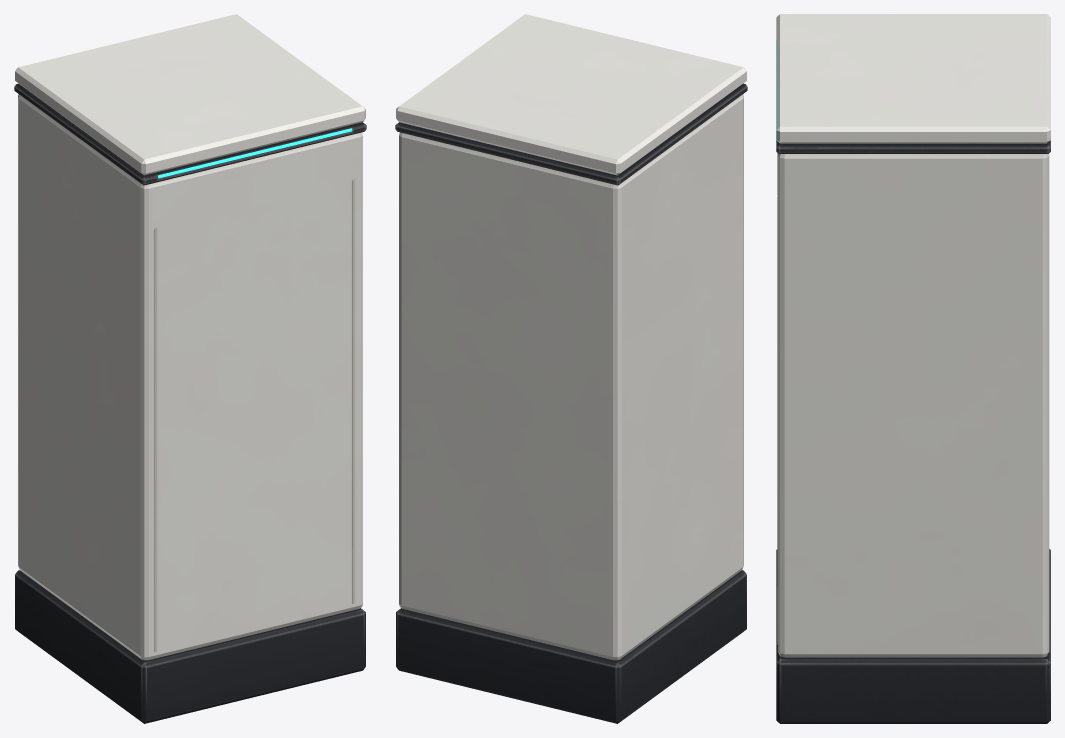
The model's file is kit_wall_company.glb.
The picture shows the model from 3 angles, left to right: view 1: azimuth 30°, elevation 25°; view 2: azimuth 150°, elevation 25°; view 3: azimuth 270°, elevation 25°; orthographic projection. The views are drawn at different scales.
Parts seen in each view (by area): view 1: kit_wall_company_mesh; view 2: kit_wall_company_mesh; view 3: kit_wall_company_mesh.
Part boxes in pixels (x1=…): kit_wall_company_mesh: x1=14, y1=14, x2=366, y2=723; kit_wall_company_mesh: x1=395, y1=14, x2=747, y2=723; kit_wall_company_mesh: x1=776, y1=14, x2=1050, y2=723.
Bounding box in the file's own units: 1 × 2.4 × 1.
Materials: 2 (1 with a texture image).
